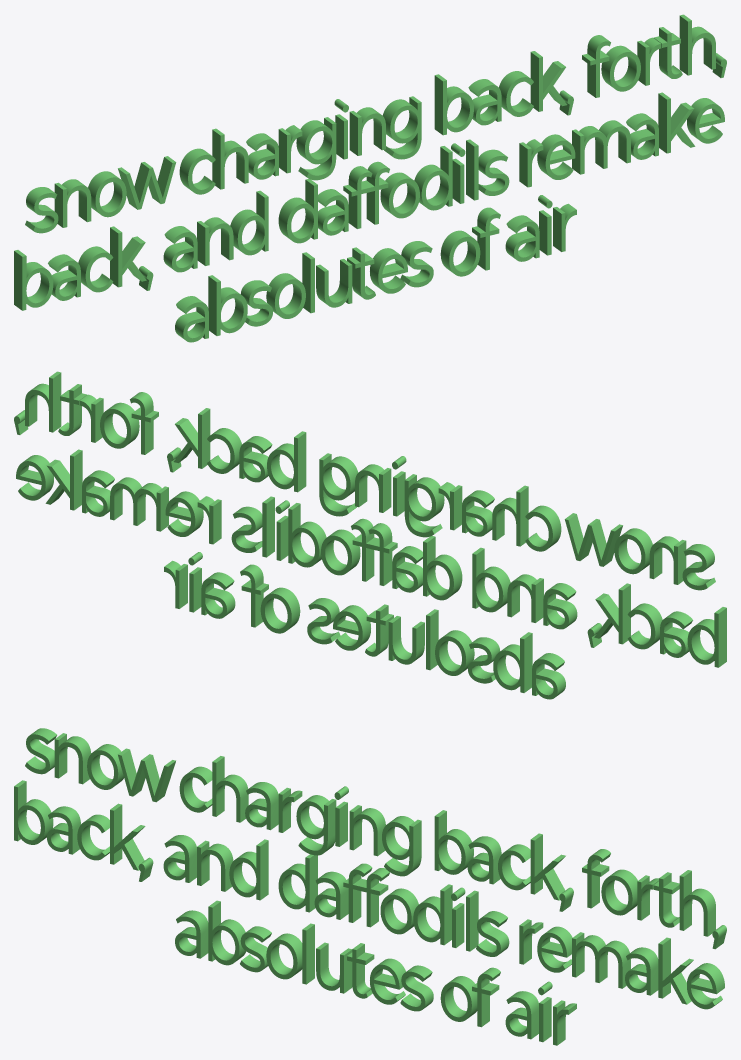
The model's file is snowhaiku.gltf.
3 renders of one model, top to bottom at view 1: azimuth 30°, elevation 25°; view 2: azimuth 150°, elevation 25°; view 3: azimuth 330°, elevation 25°, orthographic.
Parts seen in each view (by area): view 1: a (×8), o (×5), b (×3), d (×3), k (×3), s (×4), f (×4), e (×3), n (×3), g (×2), r (×4), c (×3) (+7 smaller); view 2: a (×8), o (×5), b (×3), d (×3), k (×3), s (×4), f (×4), e (×3), n (×3), g (×2), r (×4), c (×3) (+7 smaller); view 3: a (×8), o (×5), b (×3), d (×3), s (×4), k (×3), e (×3), f (×4), n (×3), g (×2), h (×2), c (×3) (+7 smaller).
Boxes of the visible parts, x1,y1,x2,y2 form: a (×8): (48,79,658,342); o (×5): (88,45,640,318); b (×3): (14,74,473,335); d (×3): (230,146,452,255); k (×3): (110,51,695,287); s (×4): (25,149,509,326); f (×4): (343,35,610,270); e (×3): (370,98,724,293); n (×3): (54,107,385,265); g (×2): (296,96,421,180); r (×4): (278,37,661,251); c (×3): (78,71,533,292); a (×8): (82,436,692,699); o (×5): (100,402,652,675); b (×3): (267,431,726,692); d (×3): (288,503,510,612); k (×3): (45,408,630,644); s (×4): (231,506,715,683); f (×4): (130,392,397,627); e (×3): (16,455,370,650); n (×3): (355,464,686,622); g (×2): (319,453,444,537); r (×4): (79,394,462,608); c (×3): (207,428,662,649); a (×8): (47,782,658,1039); o (×5): (87,744,637,1021); b (×3): (14,780,473,965); d (×3): (229,839,452,945); s (×4): (25,728,509,1011); k (×3): (110,803,693,1004); e (×3): (370,926,724,1009); f (×4): (343,849,610,1027); n (×3): (54,733,385,891); g (×2): (296,795,421,876); h (×2): (212,756,715,936); c (×3): (77,766,530,890).
Size of the model in its own units: 0.6285 by 0.1708 by 0.013.
